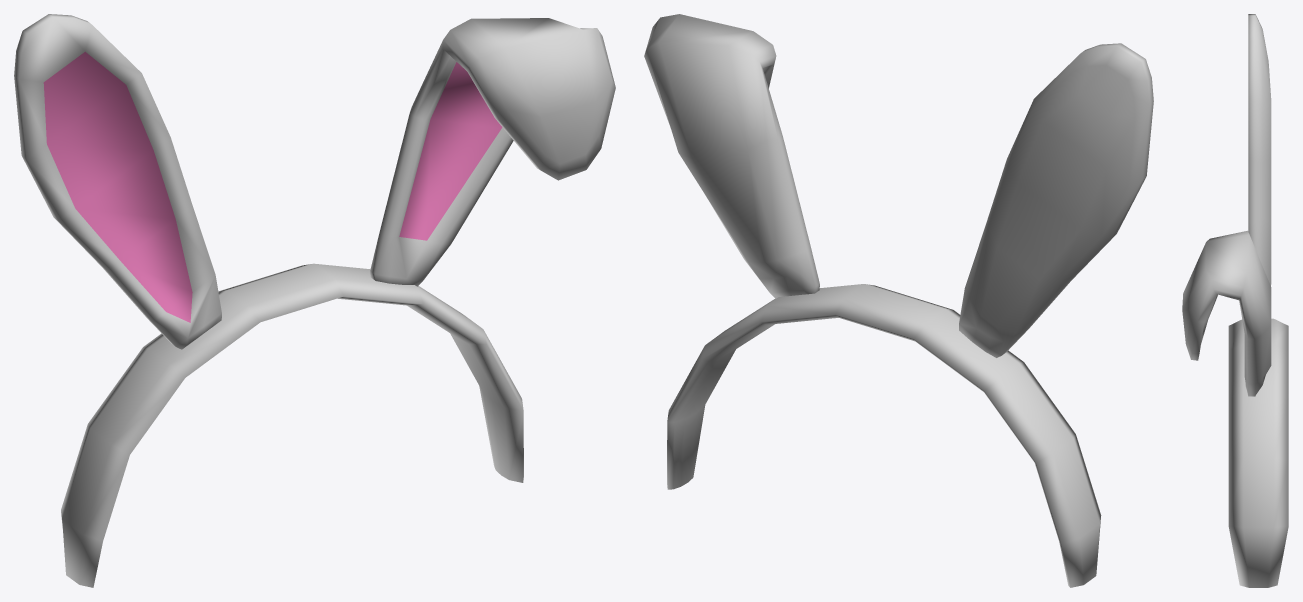
Rendered from Ear.fbx.
The picture shows the model from 3 angles, left to right: view 1: azimuth 30°, elevation 25°; view 2: azimuth 150°, elevation 25°; view 3: azimuth 270°, elevation 25°; orthographic projection. The views are drawn at different scales.
Visible parts, largest first — view 1: polySurface1140; view 2: polySurface1140; view 3: polySurface1140.
Part boxes in pixels (bbox=[...]): polySurface1140: bbox=[14, 14, 615, 587]; polySurface1140: bbox=[644, 14, 1153, 587]; polySurface1140: bbox=[1182, 14, 1288, 587].
Bounding box in the file's own units: 104 × 102 × 24.01.
